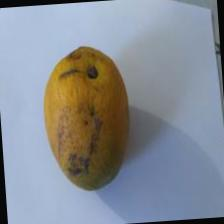Orange Rotten: (33, 27, 146, 206)
